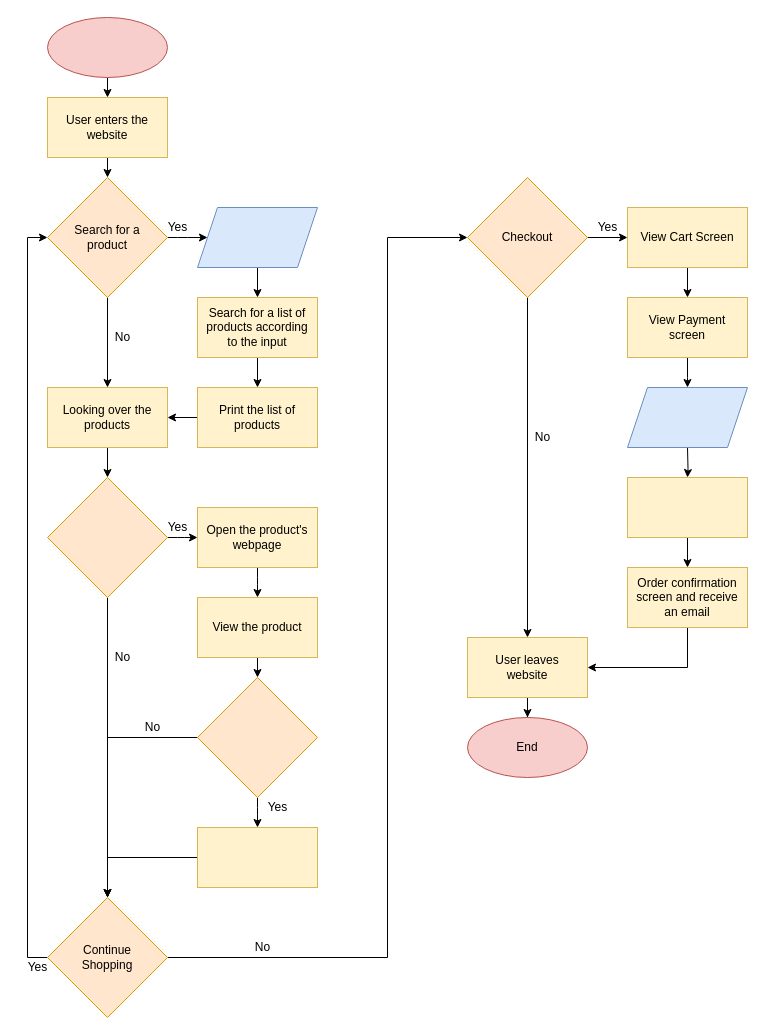
This 765x1035 diagram has some shape labels left out. Here are the shapes that lost their labels. From the top down, the centre of each, then its label:
the point at 107,47: Start
the point at 257,237: Read search input
the point at 687,417: Read payment information
the point at 687,507: Pay for the cart using the payment information input
the point at 107,537: View a specific product
the point at 257,737: Confirm add product to cart
the point at 257,857: Add product to cart
